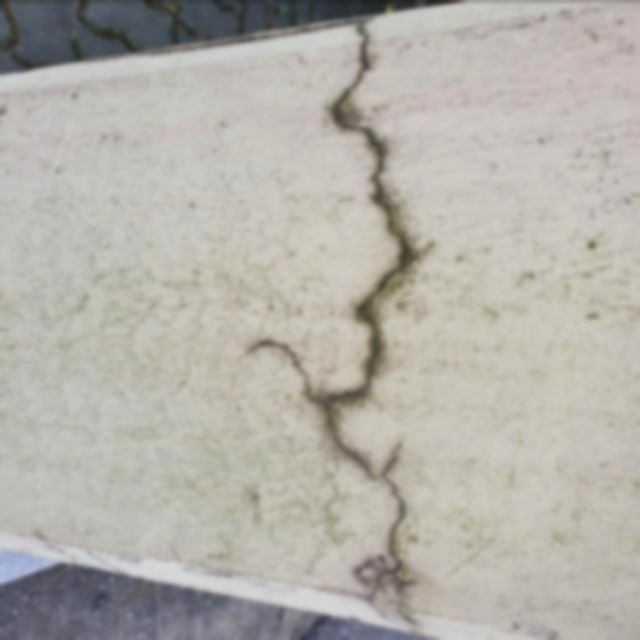SurfaceCrack: (283, 1, 445, 640)
